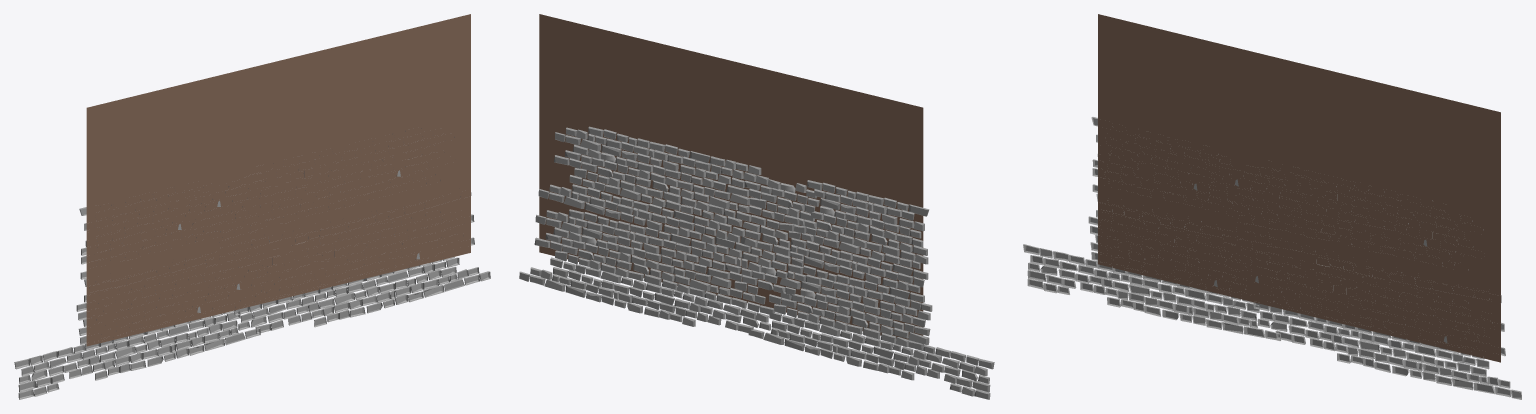
File: SM_Mur_brique.fbx
The picture shows the model from 3 angles, left to right: view 1: azimuth 30°, elevation 25°; view 2: azimuth 150°, elevation 25°; view 3: azimuth 330°, elevation 25°; orthographic projection. The views are drawn at different scales.
Parts seen in each view (by area): view 1: Mur_brique; view 2: Mur_brique; view 3: Mur_brique.
Part boxes in pixels (x1,y1,x2,y2): Mur_brique: (14, 14, 490, 399); Mur_brique: (519, 14, 994, 399); Mur_brique: (1023, 14, 1521, 399).
Size of the model in its own units: 1448 by 805 by 7.43.
